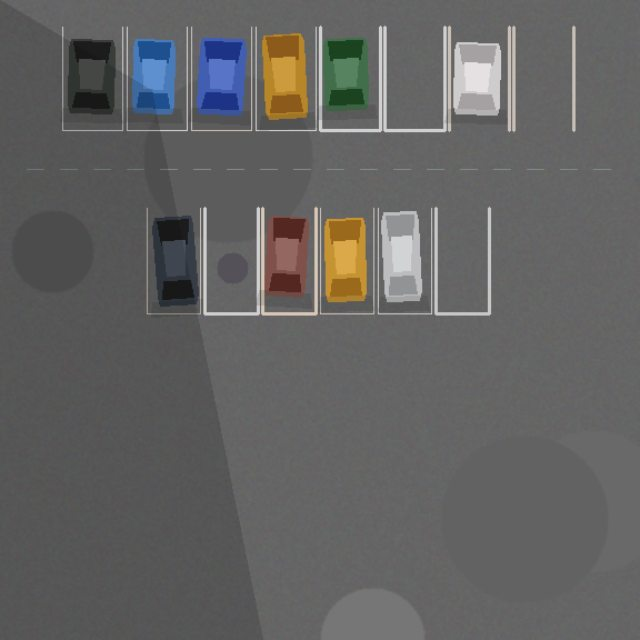space-empty: (384, 27, 444, 130), (513, 27, 573, 130), (204, 208, 258, 313), (436, 208, 489, 313)
space-occupied: (62, 27, 122, 130), (127, 27, 187, 130), (191, 27, 251, 130), (256, 27, 316, 130), (320, 27, 380, 130), (449, 27, 509, 130), (262, 208, 316, 313), (147, 208, 200, 313), (320, 208, 373, 313), (378, 208, 431, 313)
